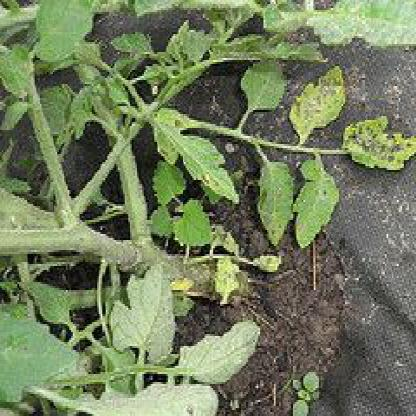tomato septoria leaf spot: (288, 60, 350, 150), (340, 118, 414, 178)
